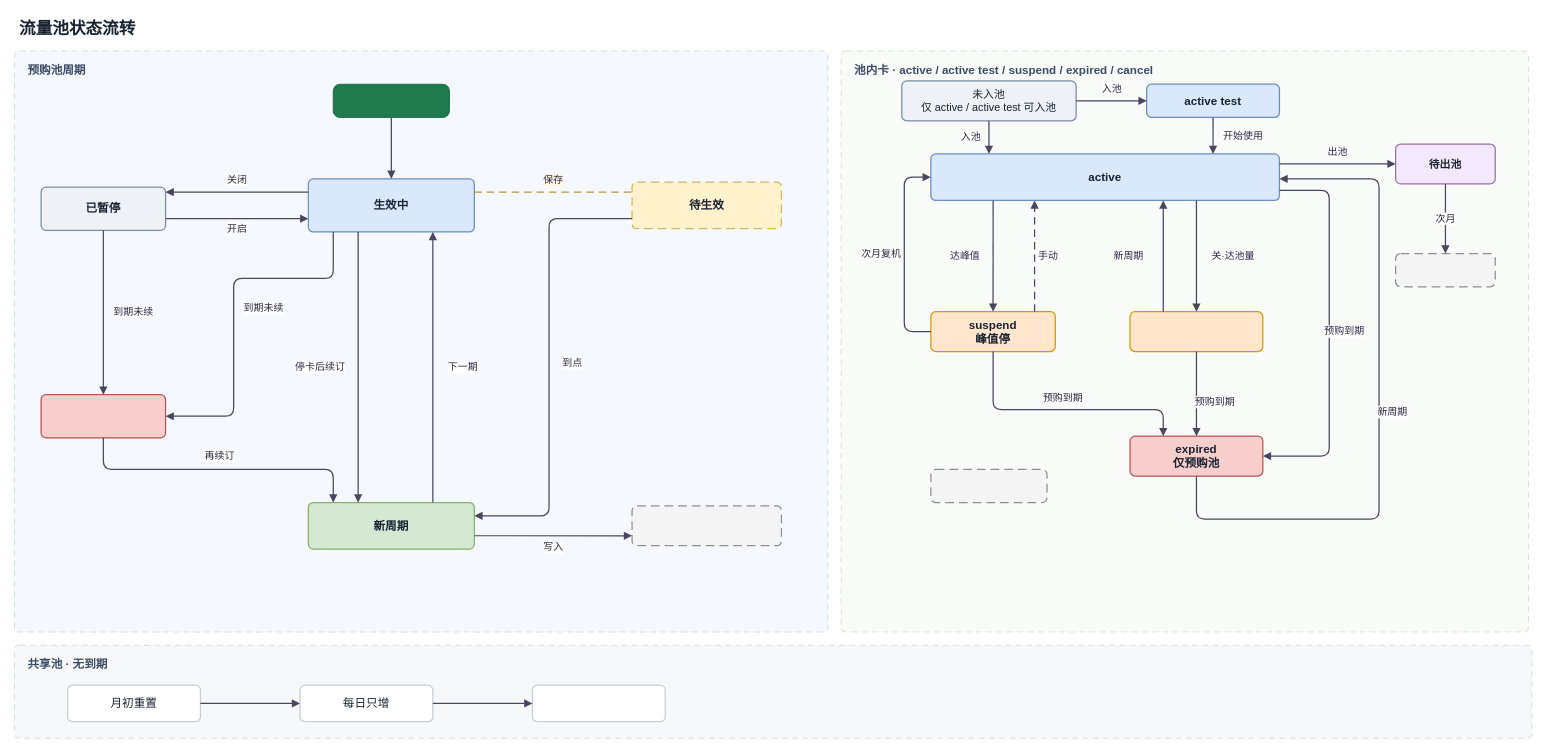
Image size: 1547x753. Some labels were removed from this diagram. Here are the shapes that lost their labels. From the top down, the centre of each, then its label:
At (x=390, y=100): "创建".
At (x=1445, y=270): "已出池".
At (x=1196, y=331): "suspend 全池停".
At (x=103, y=416): "已到期".
At (x=988, y=485): "cancel".
At (x=706, y=525): "已失效".
At (x=598, y=703): "入池扩容".
